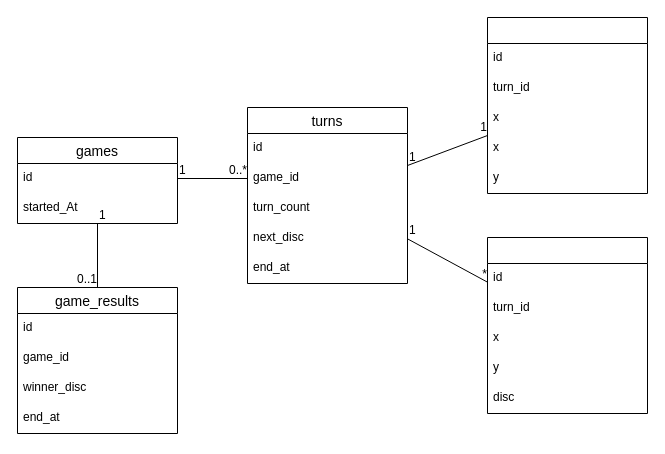
This 665x454 diagram has some shape labels left out. Each missing label, with the box of its shape:
move: (486, 16, 648, 194)
squares: (486, 236, 648, 414)
